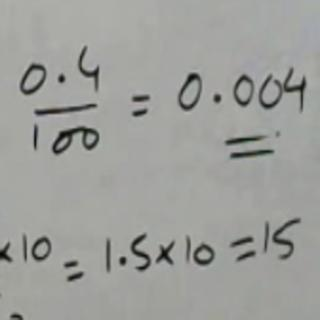.: (211, 91, 224, 104), (56, 72, 67, 84), (118, 254, 128, 267)
0: (176, 71, 203, 113), (18, 62, 48, 96), (257, 72, 283, 111), (231, 73, 256, 108), (30, 234, 52, 263), (191, 243, 215, 266)
1: (102, 237, 114, 274), (19, 231, 30, 263), (31, 120, 40, 153), (262, 218, 270, 254), (183, 233, 192, 264)
4: (76, 44, 105, 94), (283, 66, 308, 113)
5: (271, 218, 303, 261), (130, 231, 153, 273)
